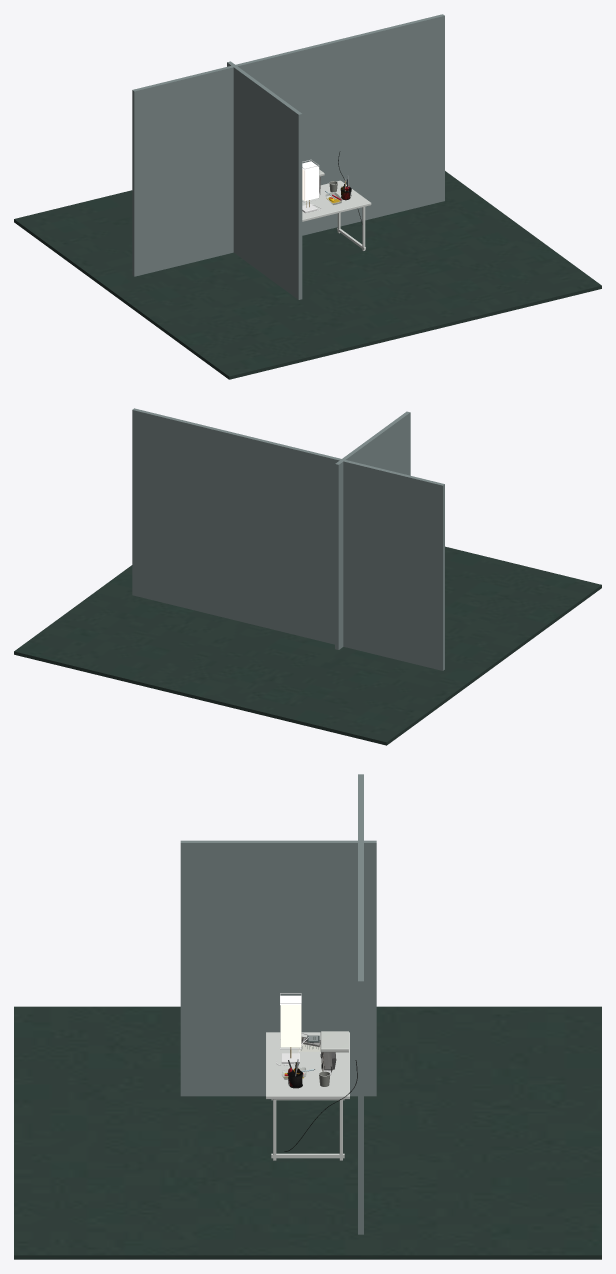
The model's file is viga.glb.
The picture shows the model from 3 angles, top to bottom: view 1: azimuth 30°, elevation 25°; view 2: azimuth 150°, elevation 25°; view 3: azimuth 270°, elevation 25°; orthographic projection. The views are drawn at different scales.
Visible parts, largest first — view 1: carpet, rear wall, left wall, thin white desktop; view 2: rear wall, carpet, left wall; view 3: carpet, left wall, thin white desktop, rear wall, woven illuminated right, straight oven top.
Boxes of the visible parts, bbox=[...] form: carpet: bbox=[14, 171, 601, 379]; rear wall: bbox=[132, 14, 444, 276]; left wall: bbox=[227, 61, 302, 299]; thin white desktop: bbox=[302, 180, 371, 221]; rear wall: bbox=[132, 408, 444, 670]; carpet: bbox=[14, 546, 601, 745]; left wall: bbox=[335, 411, 410, 649]; carpet: bbox=[14, 1006, 601, 1259]; left wall: bbox=[180, 840, 376, 1096]; thin white desktop: bbox=[266, 1032, 349, 1099]; rear wall: bbox=[358, 774, 363, 1234]; woven illuminated right: bbox=[280, 1005, 301, 1047]; straight oven top: bbox=[320, 1031, 348, 1052].
Bounding box in the file's own units: 6 × 3 × 6.
Materials: 28 (9 with a texture image).
